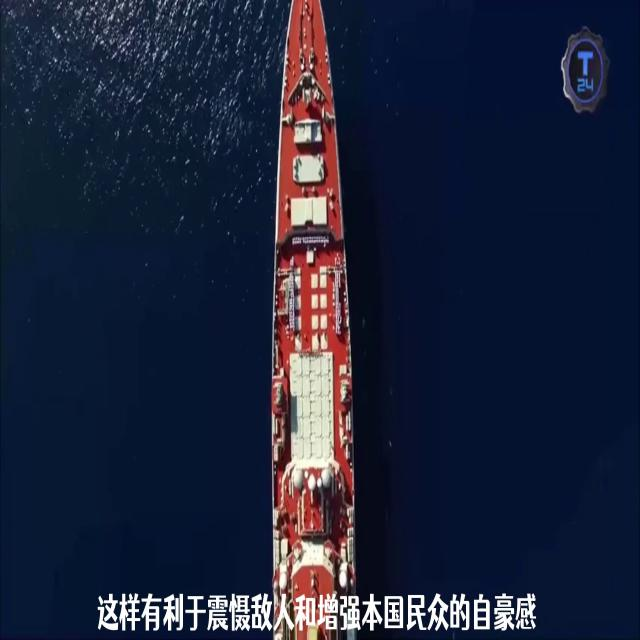navalvessels: (255, 0, 360, 640)
